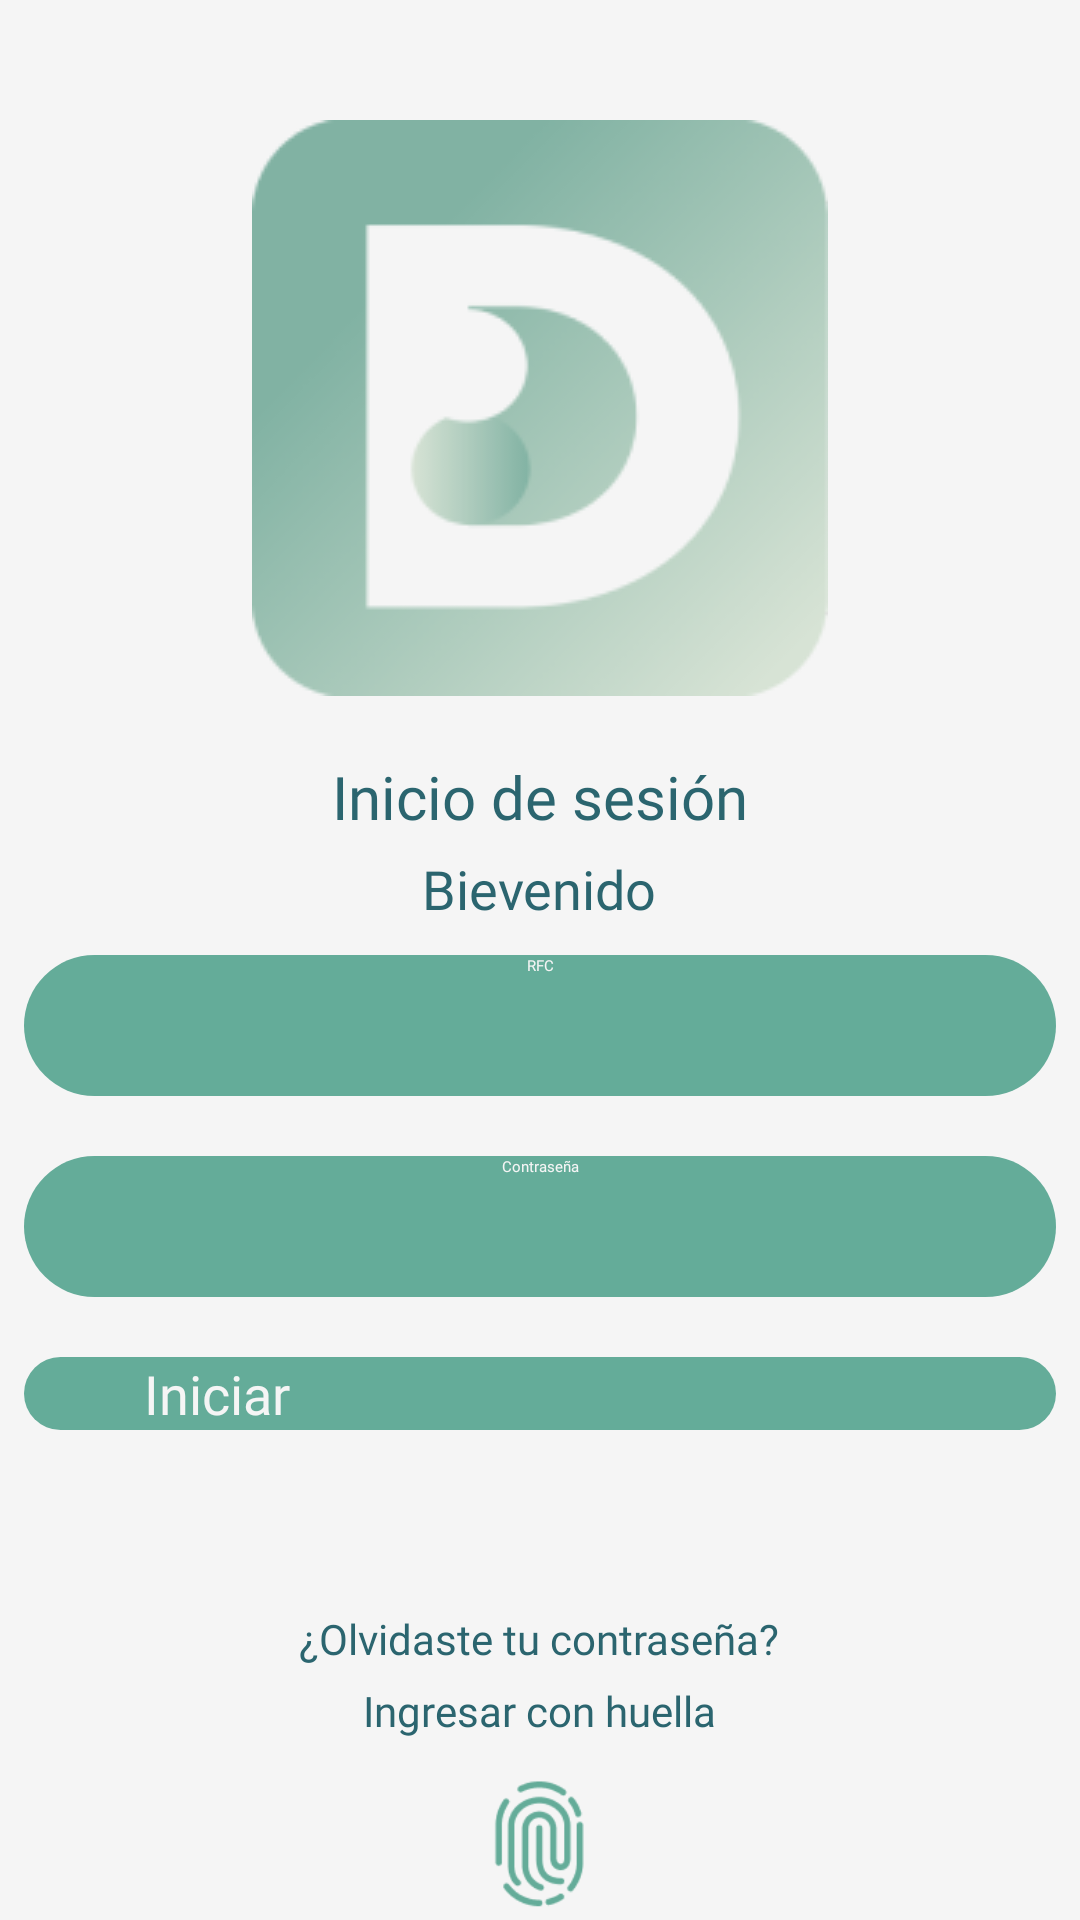

Where icons sit on this 1080x1920 app screen, as (x1, y1, x2, y2):
healthicons fingerprint: (495, 1781, 584, 1907)
